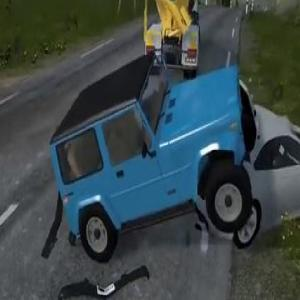severe: (44, 39, 300, 260)
